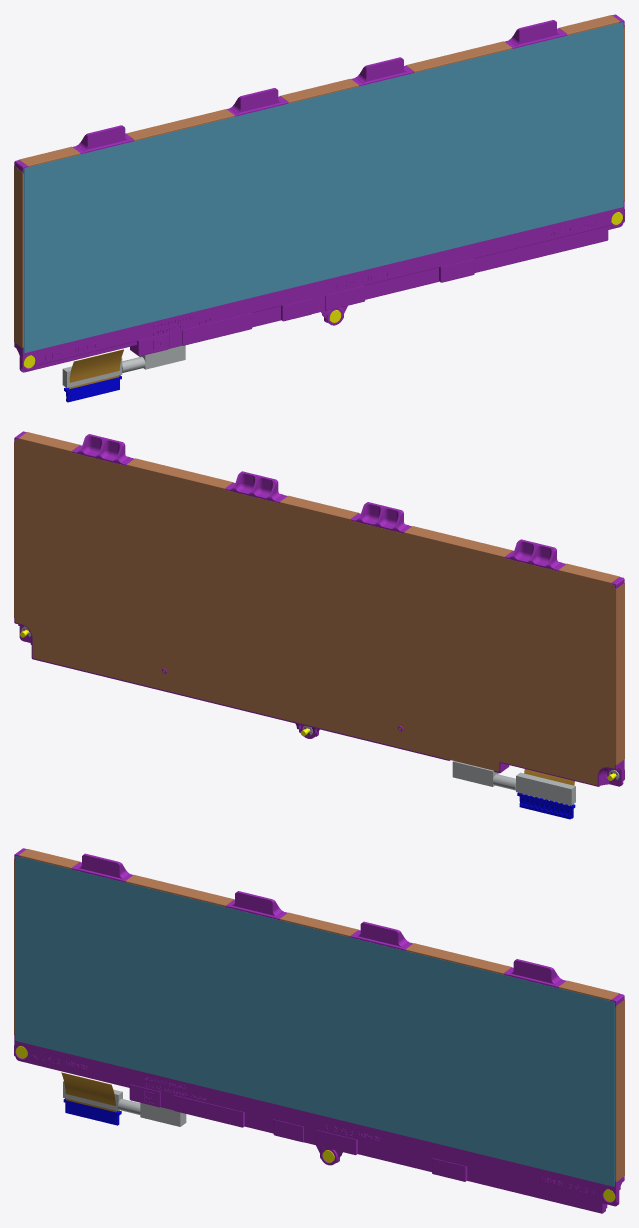
File: framework-battery.glb
3 renders of one model, top to bottom at view 1: azimuth 30°, elevation 25°; view 2: azimuth 150°, elevation 25°; view 3: azimuth 330°, elevation 25°, orthographic.
Visible parts, largest first — view 1: E01, FRAME, E03, WIRE1, LADAI, GFW00_S-50459-010H_1; view 2: E03, FRAME, WIRE1, GFW00_S-50459-010H_1; view 3: E01, FRAME, E03, WIRE1, LADAI, GFW00_S-50459-010H_1.
Boxes of the visible parts, <box> form: E01: <box>24,22,623,352</box>; FRAME: <box>14,14,624,372</box>; E03: <box>14,15,624,347</box>; WIRE1: <box>62,345,185,387</box>; LADAI: <box>69,349,123,389</box>; GFW00_S-50459-010H_1: <box>64,375,121,402</box>; E03: <box>14,432,624,785</box>; FRAME: <box>14,431,624,786</box>; WIRE1: <box>452,761,575,805</box>; GFW00_S-50459-010H_1: <box>517,792,575,819</box>; E01: <box>15,856,614,1186</box>; FRAME: <box>14,848,624,1213</box>; E03: <box>14,849,624,1181</box>; WIRE1: <box>63,1081,186,1126</box>; LADAI: <box>61,1072,116,1112</box>; GFW00_S-50459-010H_1: <box>63,1098,121,1125</box>.
Bounding box in the file's own units: 240 × 101 × 7.64.
